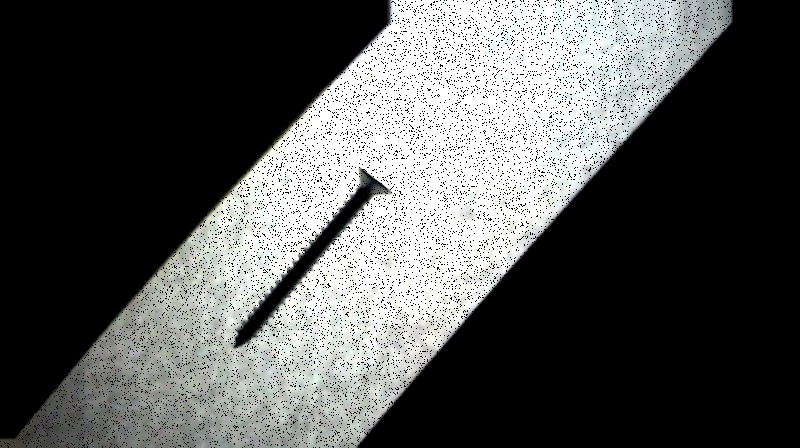S002: (227, 164, 397, 353)
